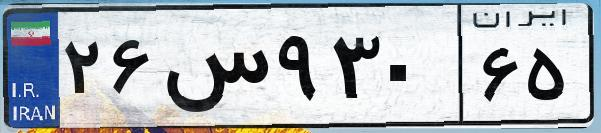0: (385, 28, 445, 110)
2: (57, 26, 110, 100)
3: (330, 28, 385, 110)
5: (525, 38, 570, 115)
6: (475, 38, 525, 113), (110, 28, 158, 98)
9: (270, 28, 330, 110)
س: (158, 20, 270, 120)
